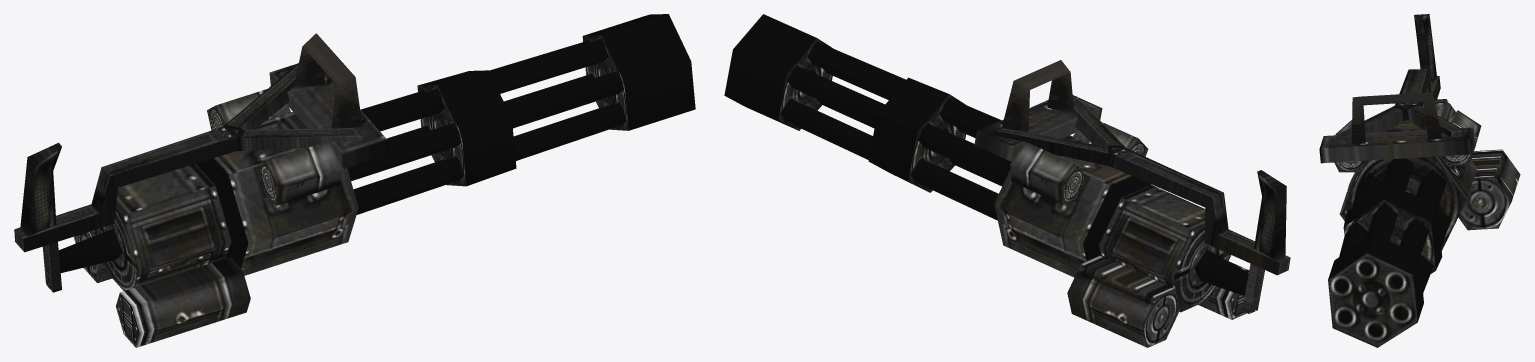
The model's file is p_mini.glb.
The picture shows the model from 3 angles, left to right: view 1: azimuth 30°, elevation 25°; view 2: azimuth 150°, elevation 25°; view 3: azimuth 270°, elevation 25°; orthographic projection. The views are drawn at different scales.
Visible parts, largest first — view 1: p_mini; view 2: p_mini; view 3: p_mini.
Part boxes in pixels (bbox=[...]): p_mini: bbox=[14, 14, 695, 347]; p_mini: bbox=[724, 14, 1290, 347]; p_mini: bbox=[1319, 14, 1520, 347].
Size of the model in its own units: 43.59 by 15.42 by 13.83.
Materials: 2 (2 with a texture image).
